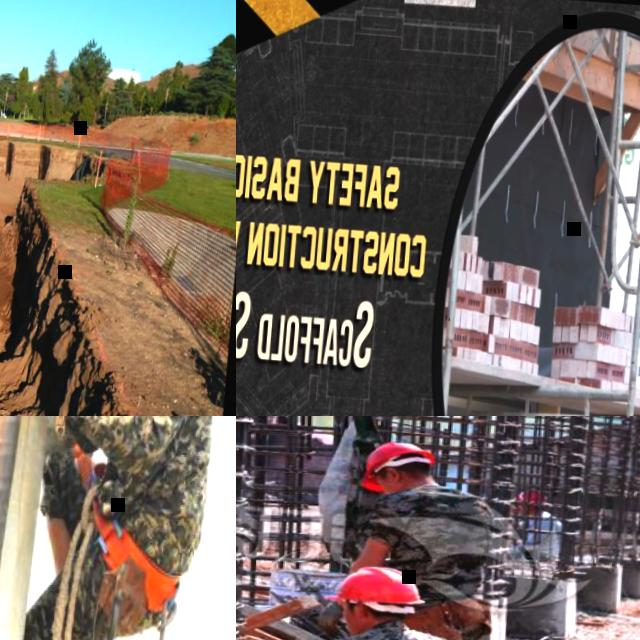Hardhat: (322, 559, 426, 615), (358, 437, 439, 500), (511, 483, 554, 506)
NO-Mask: (377, 475, 407, 496), (343, 613, 363, 635)
NO-Safety Vest: (90, 416, 223, 554), (374, 480, 511, 610), (517, 514, 562, 562)
Person: (13, 416, 235, 640), (342, 435, 508, 640), (243, 559, 483, 640), (504, 484, 562, 571)
